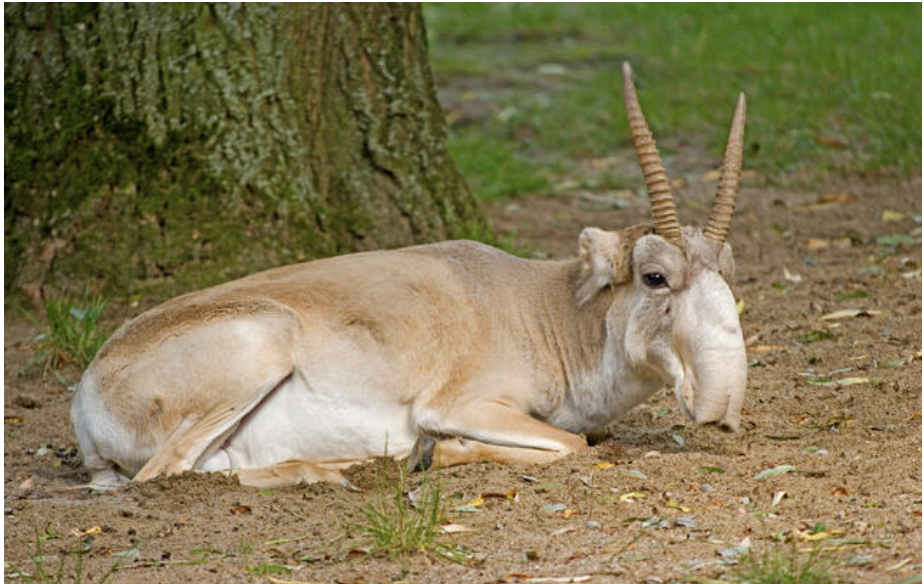saiga: (38, 65, 762, 497)
